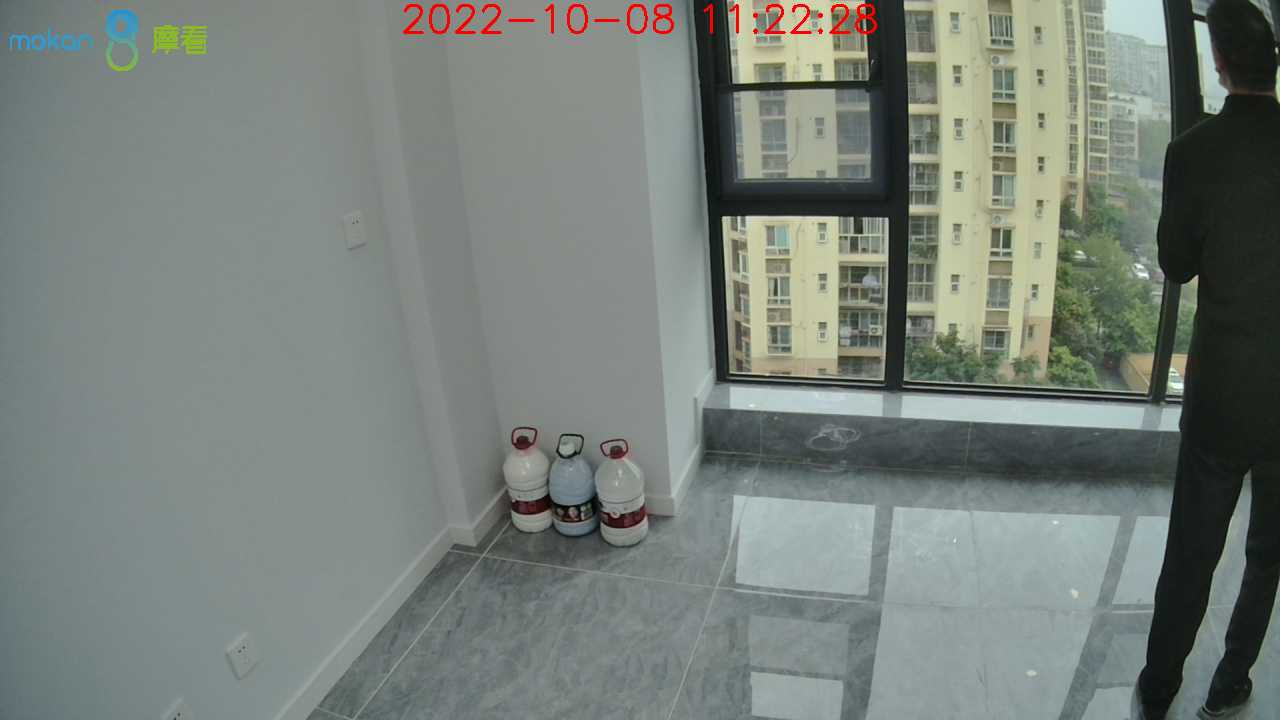people: (1135, 2, 1280, 719)
window: (693, 1, 1278, 408)
